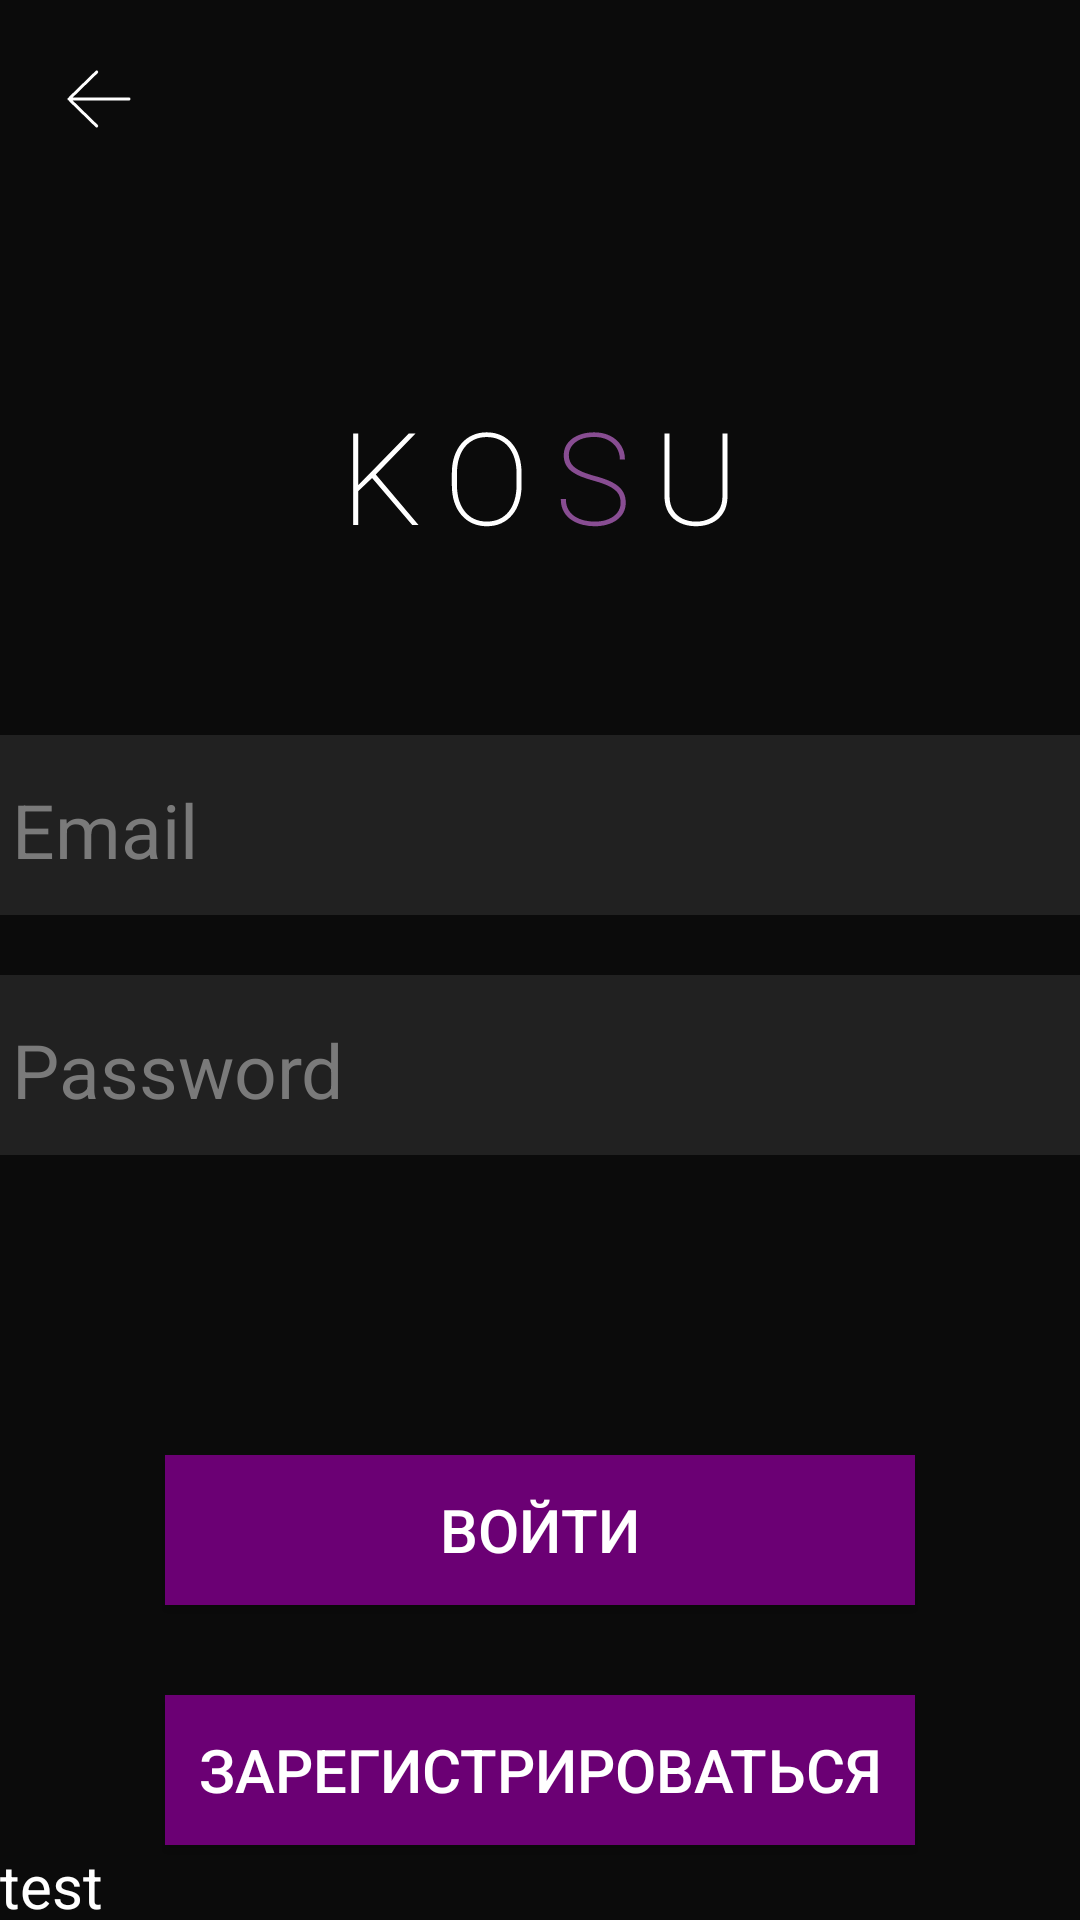

Point at icon controls on the screen. Image size 1080px×1920px, points as point (x, y).
back: point (99, 99)
